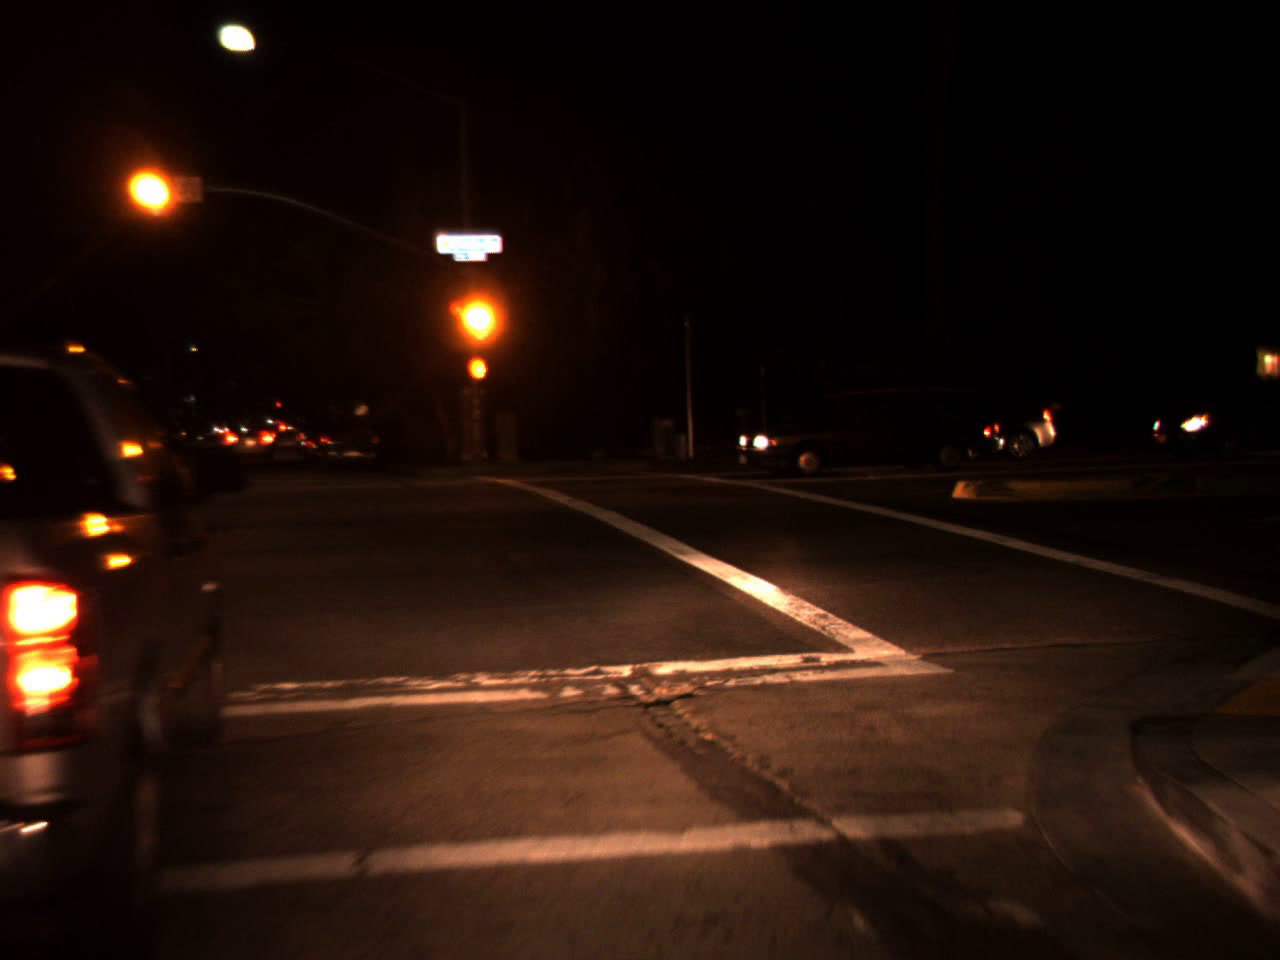warning: (129, 159, 172, 221), (461, 288, 497, 348)
